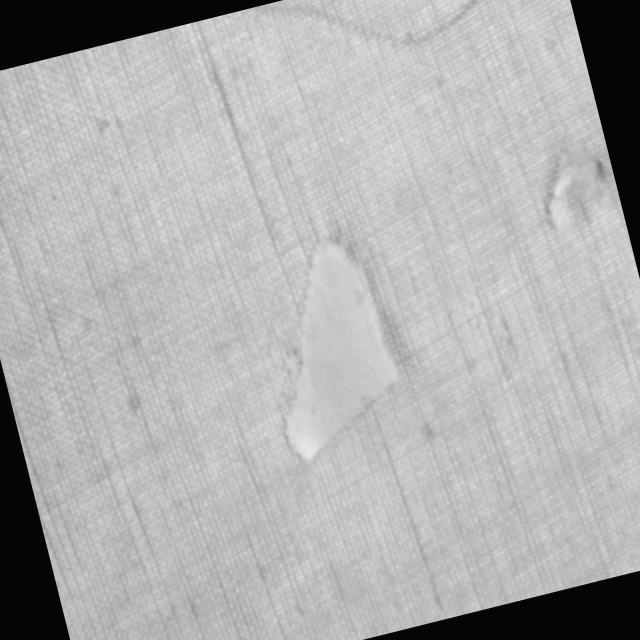objects: (234, 226, 421, 474), (245, 0, 547, 87), (528, 138, 621, 239)
